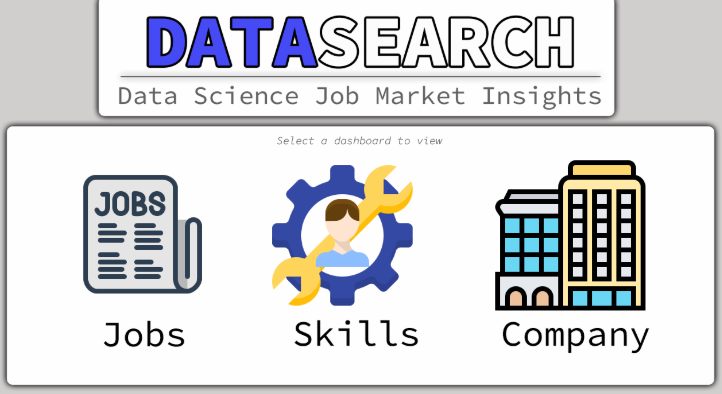

Layout of this report page (visuals, bound fields, positions):
{"tool":"powerbi","page":{"name":"Home","canvas":[1280,720],"ordinal":0},"visuals":[{"type":"image","box":[120.2,283.9,280.4,280.4],"z":0},{"type":"image","box":[470.2,283.9,280.4,280.4],"z":1},{"type":"image","box":[867.3,283.9,280.4,280.4],"z":2}]}

Visuals, with their boxes on the page's 1280x720 design canvas (x1, y1, x2, y2). These are canvas units, not pixel positions in the 722x394 screenshot, which may show the page scaled, cropped or inside an application window:
image: <region>120, 284, 401, 564</region>
image: <region>470, 284, 751, 564</region>
image: <region>867, 284, 1148, 564</region>
